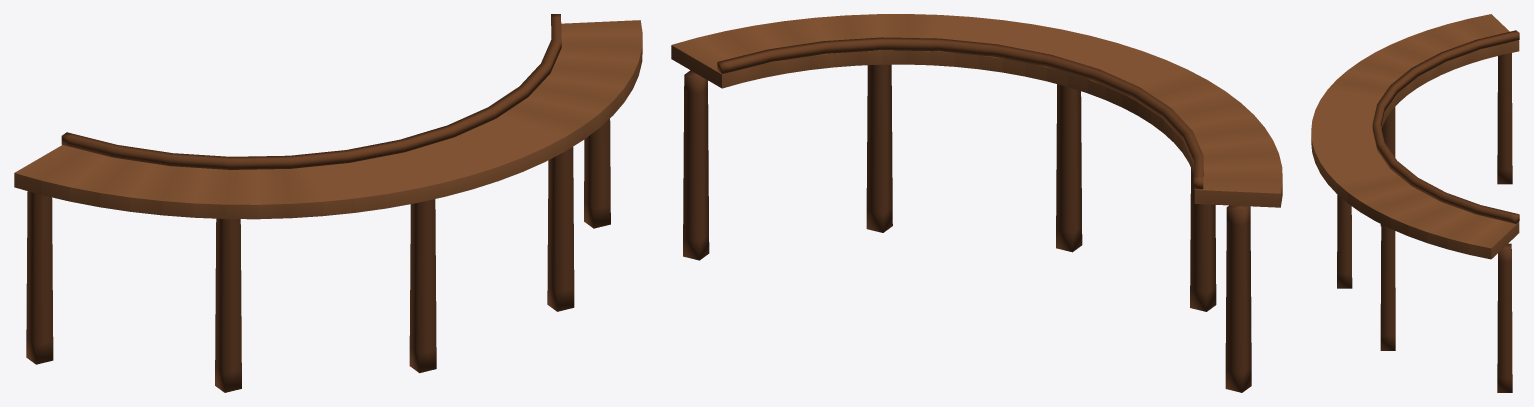
File: shelf_arc.glb
3 views of the same model, side by side, from view 1: azimuth 30°, elevation 25°; view 2: azimuth 150°, elevation 25°; view 3: azimuth 270°, elevation 25° (orthographic). The views are drawn at different scales.
Parts seen in each view (by area): view 1: shelf_arc; view 2: shelf_arc; view 3: shelf_arc.
Boxes of the visible parts, x1,y1,x2,y2 form: shelf_arc: (14,14,642,392); shelf_arc: (671,14,1282,392); shelf_arc: (1311,14,1519,392).
Bounding box in the file's own units: 3.65 × 1.18 × 1.37.
